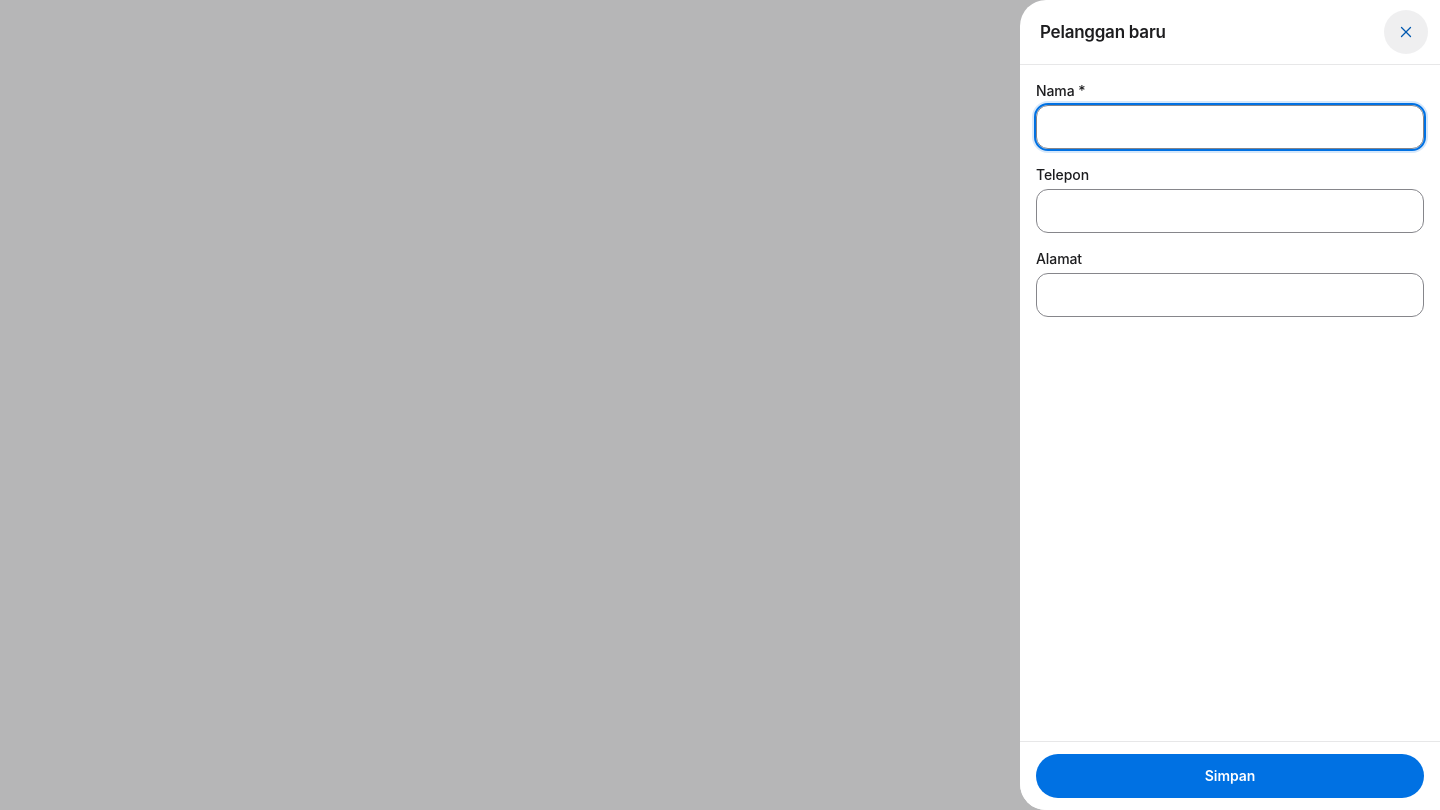
Test: PelangganSheet › requires a nama and does not submit without one
Click the button "Simpan" at [1230, 776], box [1036,754,1424,798]
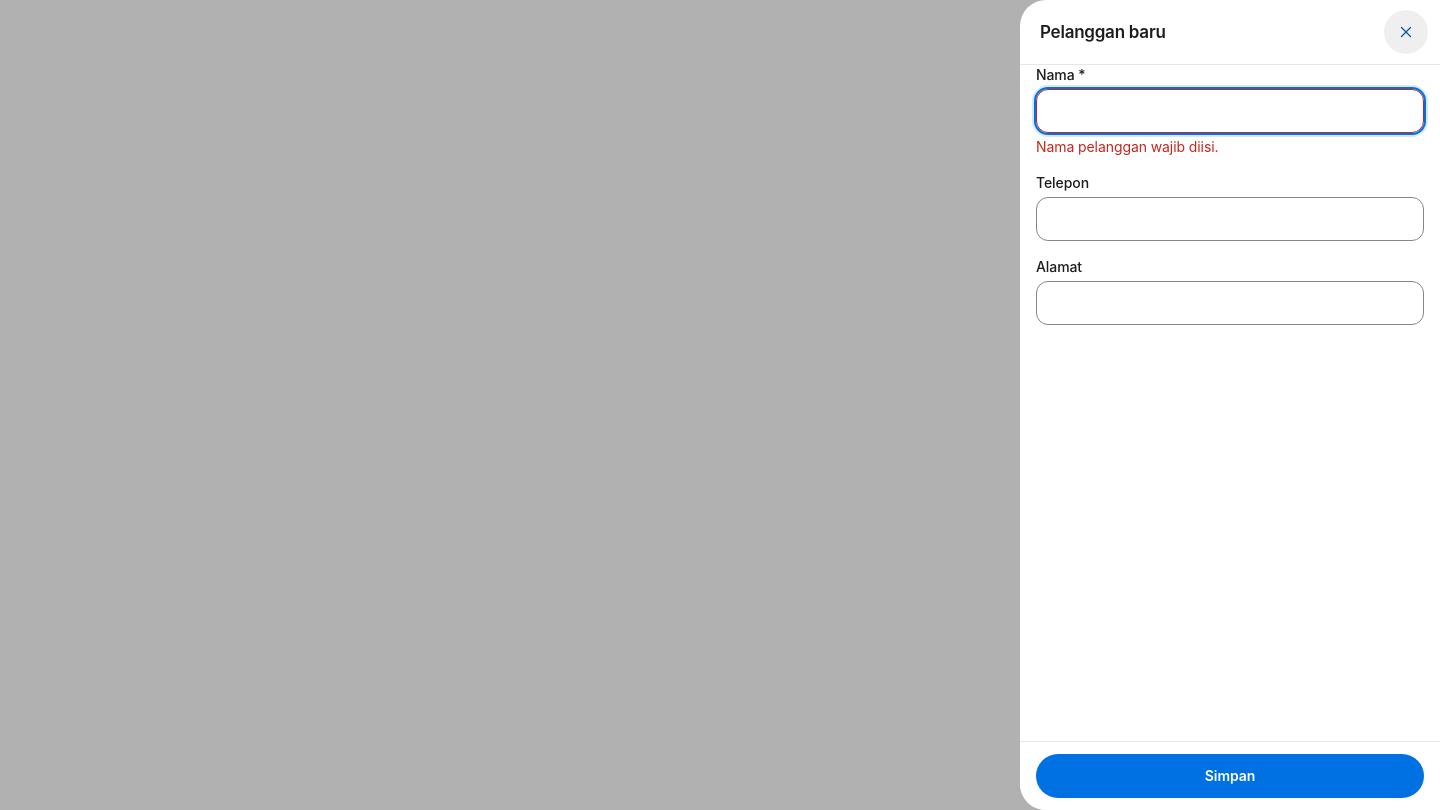
Expected: the text "Nama pelanggan wajib diisi." is shown, [1036,138,1218,155]
